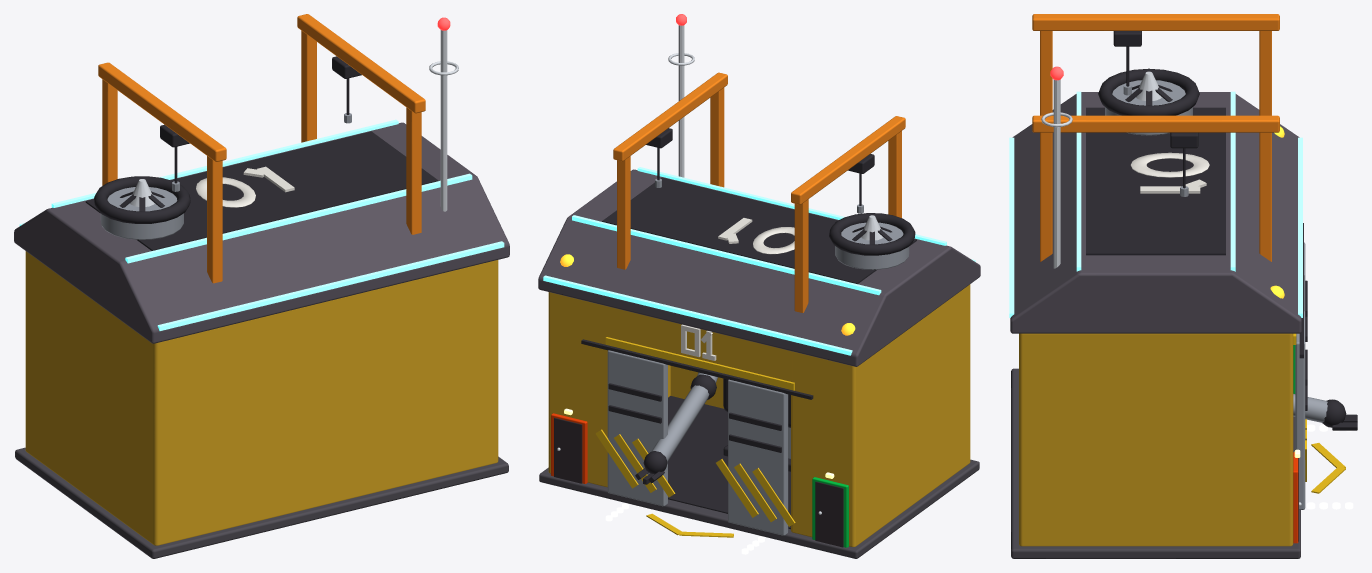
File: building_vehicle_depot_t3.glb
3 renders of one model, left to right at view 1: azimuth 30°, elevation 25°; view 2: azimuth 150°, elevation 25°; view 3: azimuth 270°, elevation 25°, orthographic. The views are drawn at different scales.
Visible parts, largest first — view 1: WallBack, Roof, WallSide, Roof.Deck, Plinth, Gantry.Beam, Gantry.Beam.001, Roof.Strip.003, Vent.Ring, Roof.Strip.001, Vent.Housing, Gantry.Leg (+6 smaller); view 2: Roof, WallSide, Roof.Deck, WallFront, WallFront.001, BlastDoor, BlastDoor.001, Floor, Lintel, Plinth, Gantry.Beam.001, Gantry.Beam (+24 smaller); view 3: WallSide.001, Roof, Roof.Deck, Plinth, Gantry.Beam.001, Gantry.Beam, WallFront.001, WallBack, Vent.Ring, Gantry.Leg.002, Gantry.Leg.003, BlastDoor.001 (+14 smaller).
Boxes of the visible parts, <box> form: WallBack: <box>147,260,497,545</box>; Roof: <box>14,122,509,343</box>; WallSide: <box>25,251,168,545</box>; Roof.Deck: <box>85,131,438,250</box>; Plinth: <box>15,447,508,558</box>; Gantry.Beam: <box>98,62,226,161</box>; Gantry.Beam.001: <box>297,14,425,113</box>; Roof.Strip.003: <box>157,241,504,330</box>; Vent.Ring: <box>94,176,190,223</box>; Roof.Strip.001: <box>125,173,472,263</box>; Vent.Housing: <box>100,187,183,239</box>; Gantry.Leg: <box>207,156,222,283</box>; Roof: <box>538,169,980,366</box>; WallSide: <box>843,288,969,546</box>; Roof.Deck: <box>602,177,916,284</box>; WallFront: <box>791,351,861,546</box>; WallFront.001: <box>550,294,609,487</box>; BlastDoor: <box>728,379,788,535</box>; BlastDoor.001: <box>607,350,667,506</box>; Floor: <box>668,396,790,529</box>; Lintel: <box>609,307,792,381</box>; Plinth: <box>539,459,979,558</box>; Gantry.Beam.001: <box>613,72,727,161</box>; Gantry.Beam: <box>791,116,905,204</box>; WallSide.001: <box>1019,333,1293,546</box>; Roof: <box>1010,92,1301,333</box>; Roof.Deck: <box>1086,107,1225,255</box>; Plinth: <box>1011,368,1300,558</box>; Gantry.Beam.001: <box>1032,115,1279,132</box>; Gantry.Beam: <box>1032,14,1279,30</box>; WallFront.001: <box>1277,333,1292,546</box>; WallBack: <box>1019,333,1034,546</box>; Vent.Ring: <box>1098,68,1199,115</box>; Gantry.Leg.002: <box>1040,132,1052,261</box>; Gantry.Leg.003: <box>1259,132,1271,261</box>; BlastDoor.001: <box>1295,311,1305,509</box>.
Size of the model in its own units: 6.12 by 7.34 by 4.93.
